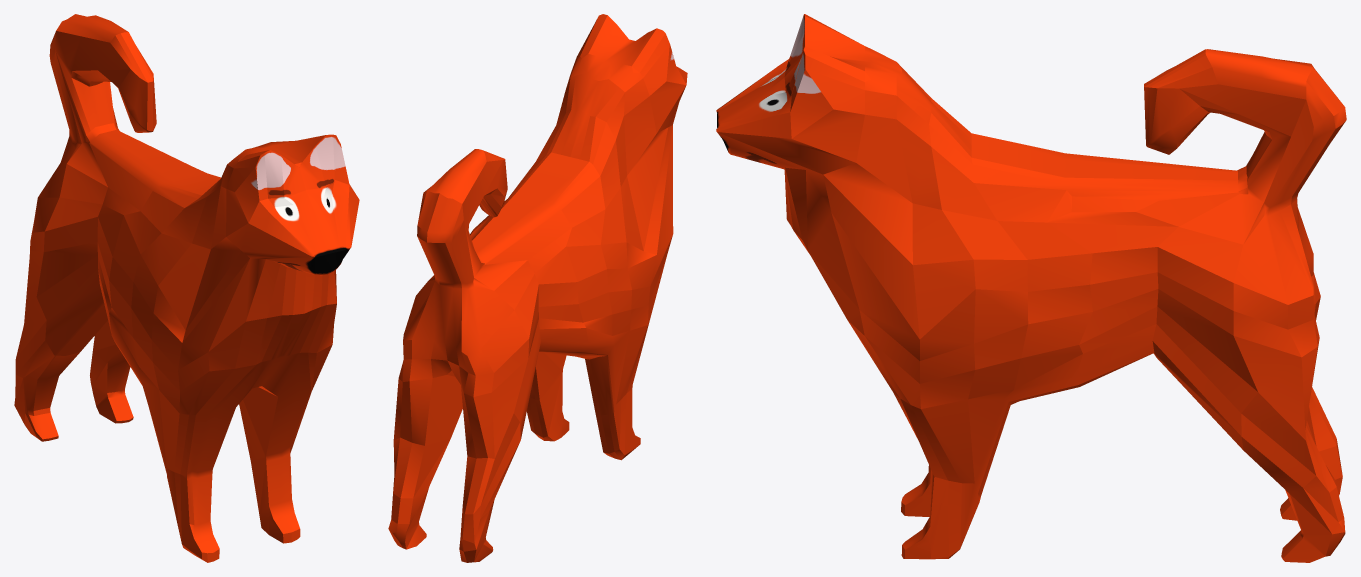
The model's file is VeryRedDog.fbx.
3 renders of one model, left to right at view 1: azimuth 30°, elevation 25°; view 2: azimuth 150°, elevation 25°; view 3: azimuth 270°, elevation 25°, orthographic. The views are drawn at different scales.
Parts seen in each view (by area): view 1: pCube1; view 2: pCube1; view 3: pCube1.
Part boxes in pixels (x1,y1,x2,y2): pCube1: (14, 14, 359, 562); pCube1: (388, 14, 687, 562); pCube1: (716, 14, 1346, 562).
Size of the model in its own units: 0.8698 by 2.51 by 2.82.
